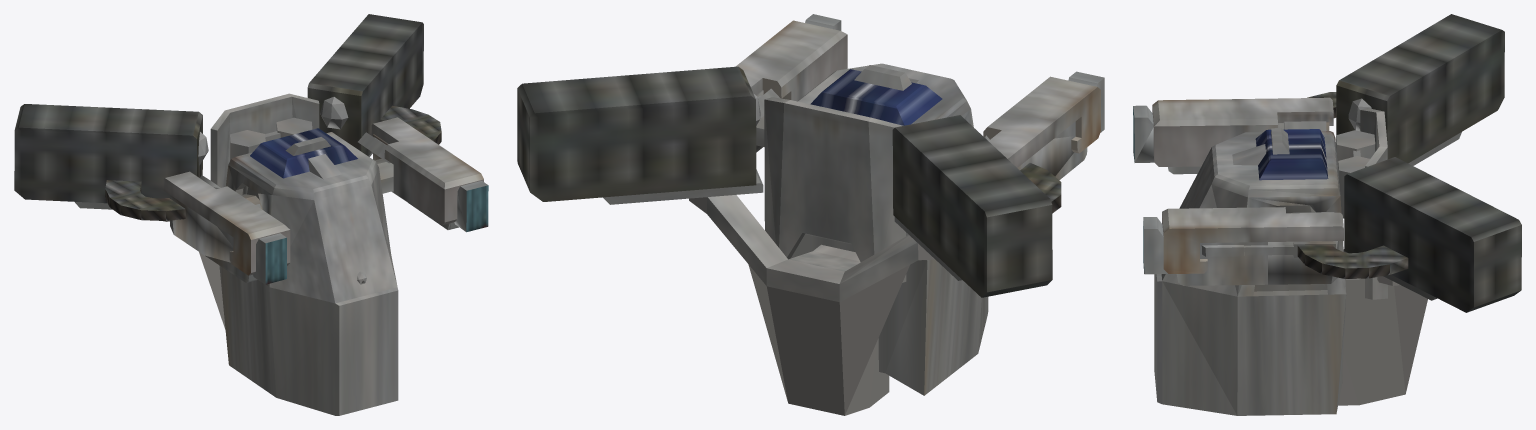
Rendered from torreta_VBL.dae.
The picture shows the model from 3 angles, left to right: view 1: azimuth 30°, elevation 25°; view 2: azimuth 150°, elevation 25°; view 3: azimuth 270°, elevation 25°; orthographic projection. The views are drawn at different scales.
Visible parts, largest first — view 1: torreta; view 2: torreta; view 3: torreta.
Boxes of the visible parts, <box> form: torreta: <box>14,14,488,415</box>; torreta: <box>517,14,1104,415</box>; torreta: <box>1133,14,1521,415</box>.
Bounding box in the file's own units: 7.79 × 5.72 × 4.35.
